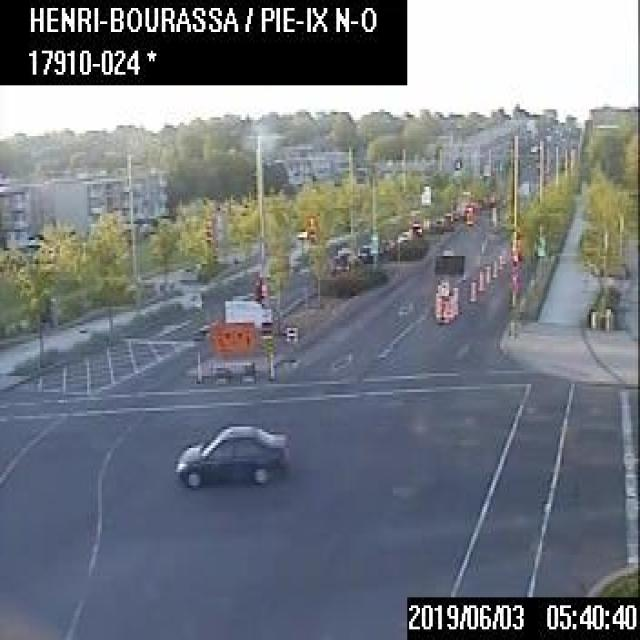construction: (193, 293, 271, 384), (431, 253, 464, 320), (434, 290, 440, 320), (467, 279, 475, 301), (452, 284, 458, 313), (447, 294, 453, 320), (442, 298, 448, 320), (477, 268, 482, 290), (484, 263, 489, 282), (491, 258, 496, 276), (500, 248, 506, 262), (497, 252, 501, 268)
vehicle: (173, 419, 289, 488)
